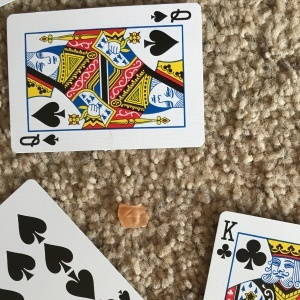card: (4, 2, 206, 153)
